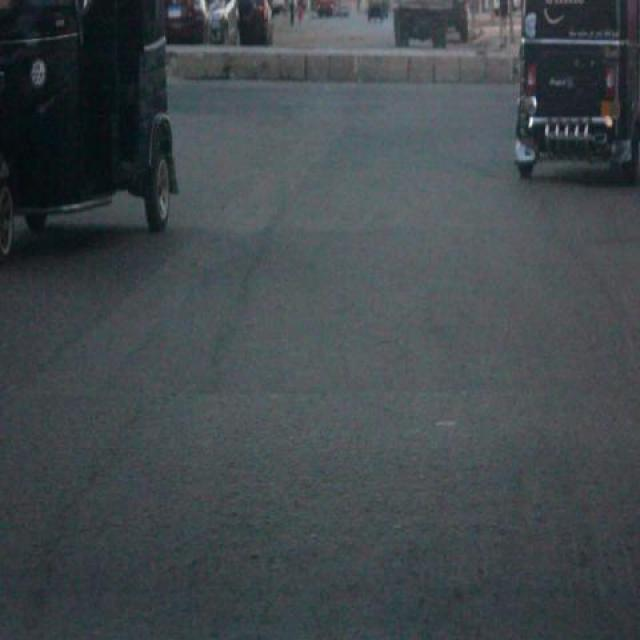Unmarked Bump: (0, 382, 639, 638)
